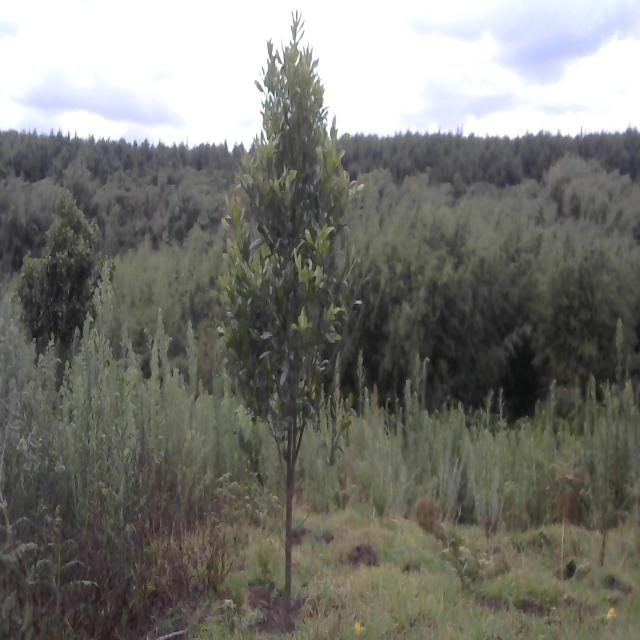Syzygium gineense: (217, 19, 347, 640)
cedrus: (17, 196, 110, 355)
